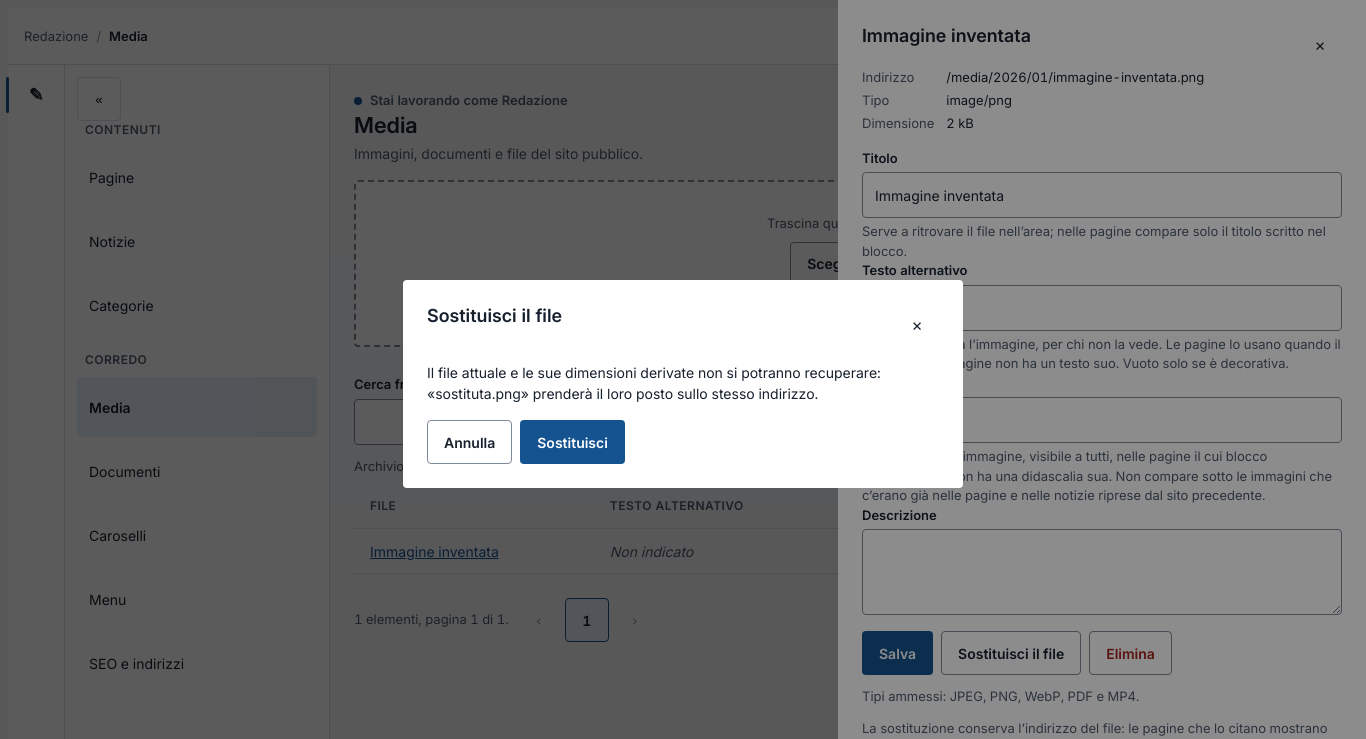
Test: archivio dei media › dopo la sostituzione dice quante dimensioni derivate sono state rigenerate
Earlier steps of the test are not shown.
Click the button "Sostituisci". click: (573, 442)
box: [520,420,625,464]
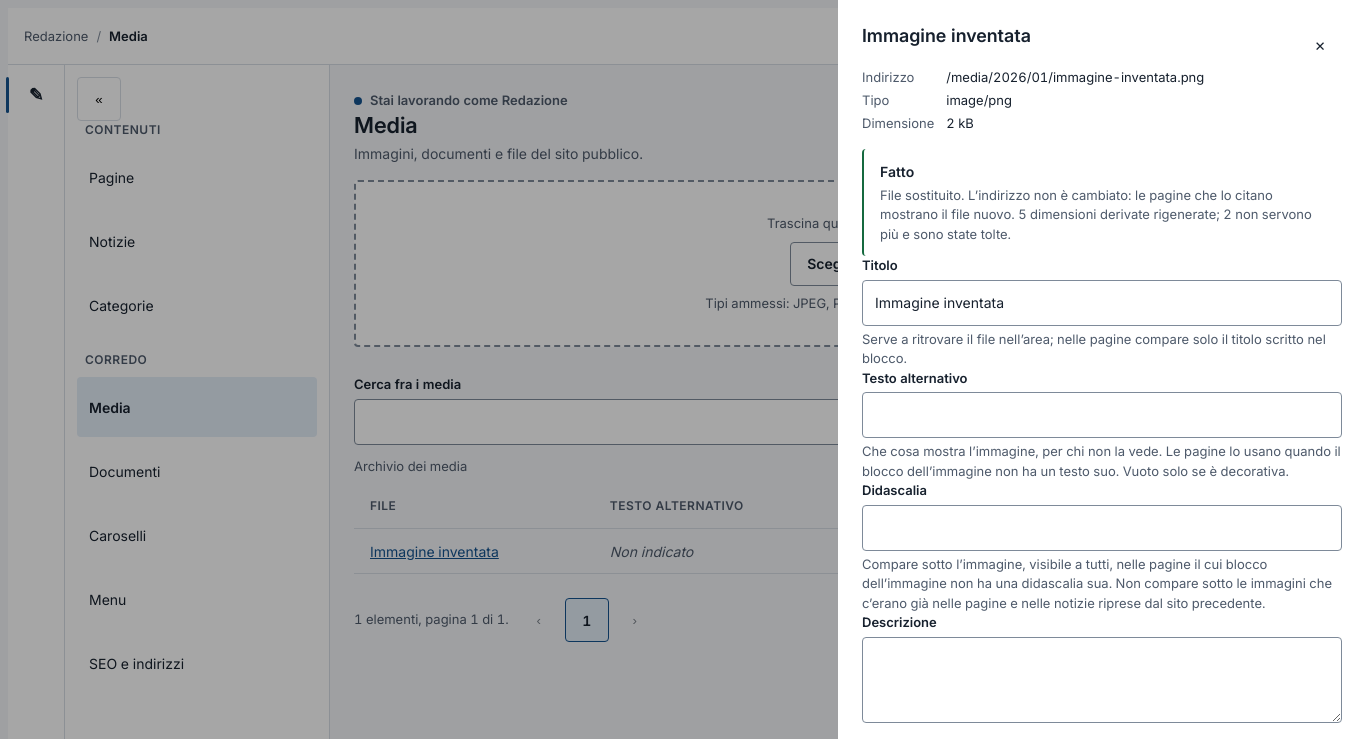
Expected: the text "2 non servono più e sono state tolte" is shown, [880,186,1312,242]
